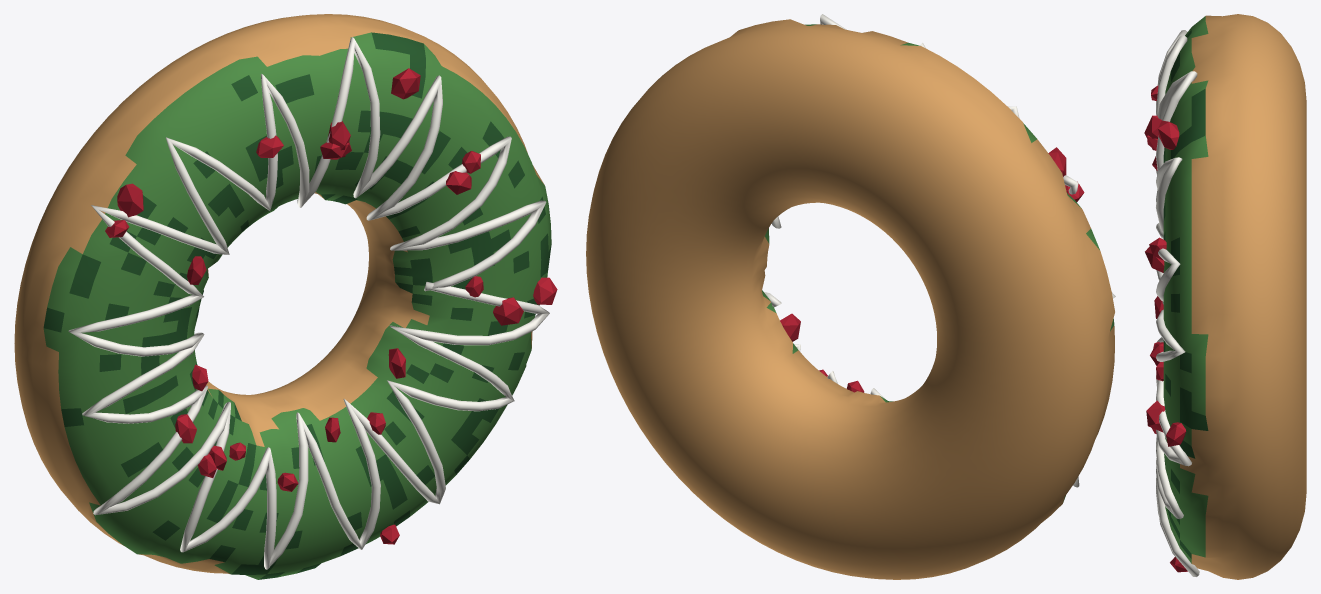
Rendered from ChristmasRingDonut.fbx.
3 renders of one model, left to right at view 1: azimuth 30°, elevation 25°; view 2: azimuth 150°, elevation 25°; view 3: azimuth 270°, elevation 25°, orthographic. The views are drawn at different scales.
Parts seen in each view (by area): view 1: ChristmasRingDonut_Body, ChristmasRingDonut_Drizzle, ChristmasRingDonut_Berries; view 2: ChristmasRingDonut_Body, ChristmasRingDonut_Berries, ChristmasRingDonut_Drizzle; view 3: ChristmasRingDonut_Body, ChristmasRingDonut_Drizzle, ChristmasRingDonut_Berries.
Boxes of the visible parts, x1,y1,x2,y2 form: ChristmasRingDonut_Body: (14,14,551,579); ChristmasRingDonut_Drizzle: (68,37,549,569); ChristmasRingDonut_Berries: (105,68,557,544); ChristmasRingDonut_Body: (586,19,1114,579); ChristmasRingDonut_Berries: (780,147,1084,392); ChristmasRingDonut_Drizzle: (764,14,1115,487); ChristmasRingDonut_Body: (1163,14,1306,579); ChristmasRingDonut_Drizzle: (1156,30,1199,576); ChristmasRingDonut_Berries: (1144,85,1187,572).
Bounding box in the file's own units: 290 × 290 × 83.17.
Materials: 1 (1 with a texture image).
